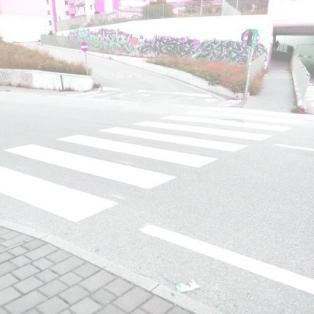Paso de Cebra: (1, 131, 220, 193), (159, 106, 313, 126)
